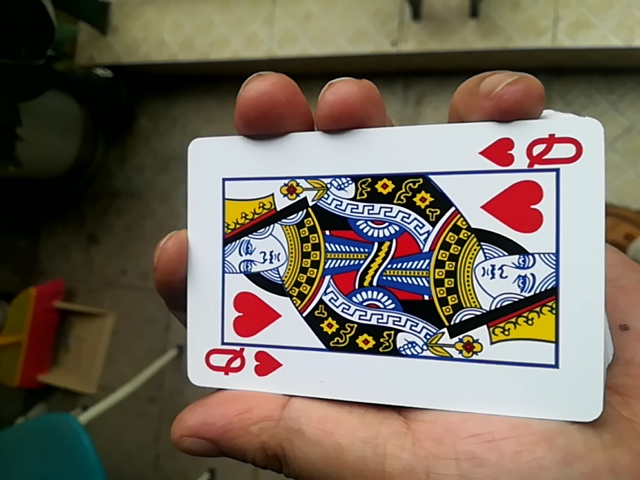hx q: (173, 108, 603, 419)
